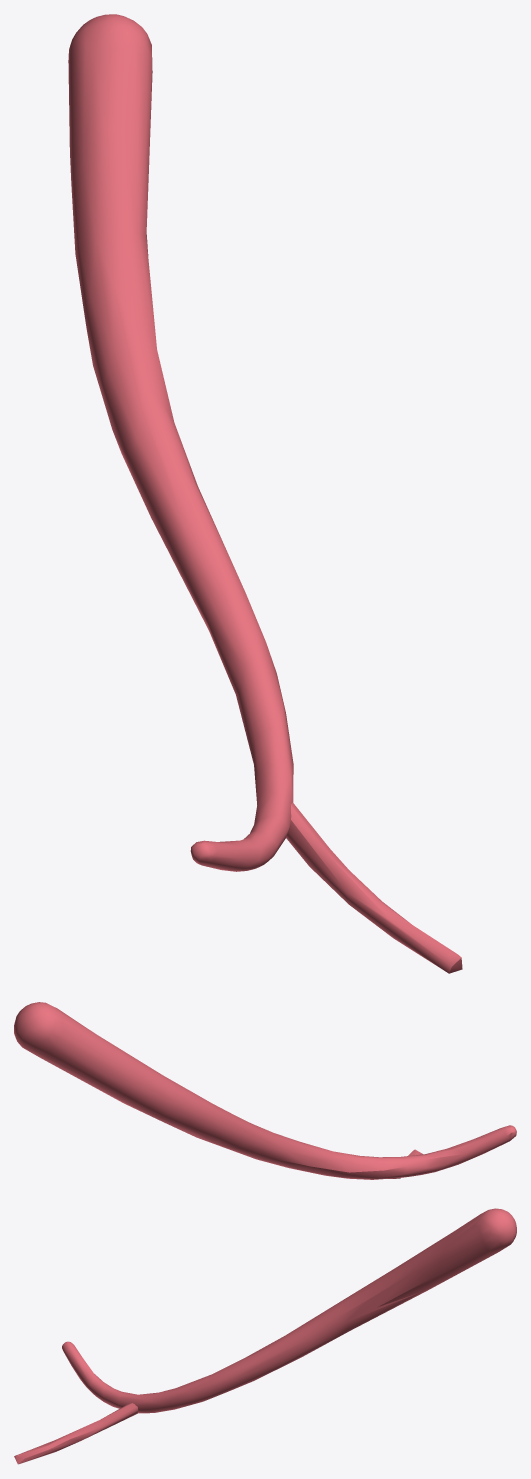
Rendered from fma68693_cx182.glb.
3 renders of one model, top to bottom at view 1: azimuth 30°, elevation 25°; view 2: azimuth 150°, elevation 25°; view 3: azimuth 270°, elevation 25°, orthographic. The views are drawn at different scales.
Visible parts, largest first — view 1: FMA68693_CX182; view 2: FMA68693_CX182; view 3: FMA68693_CX182.
Part boxes in pixels (x1,y1,x2,y2): FMA68693_CX182: (68,14,462,973); FMA68693_CX182: (14,1002,516,1179); FMA68693_CX182: (14,1208,516,1464).
Size of the model in its own units: 0.0404 by 0.0574 by 0.0917.
